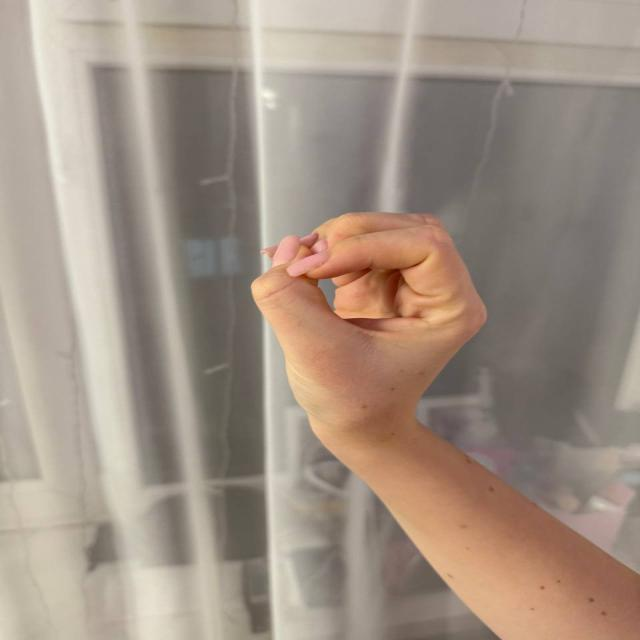e: (236, 193, 504, 440)
